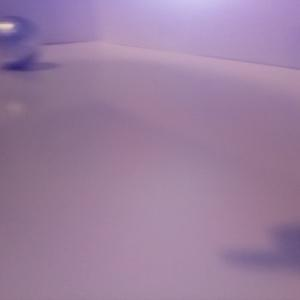alive_ball: (1, 17, 40, 68)
